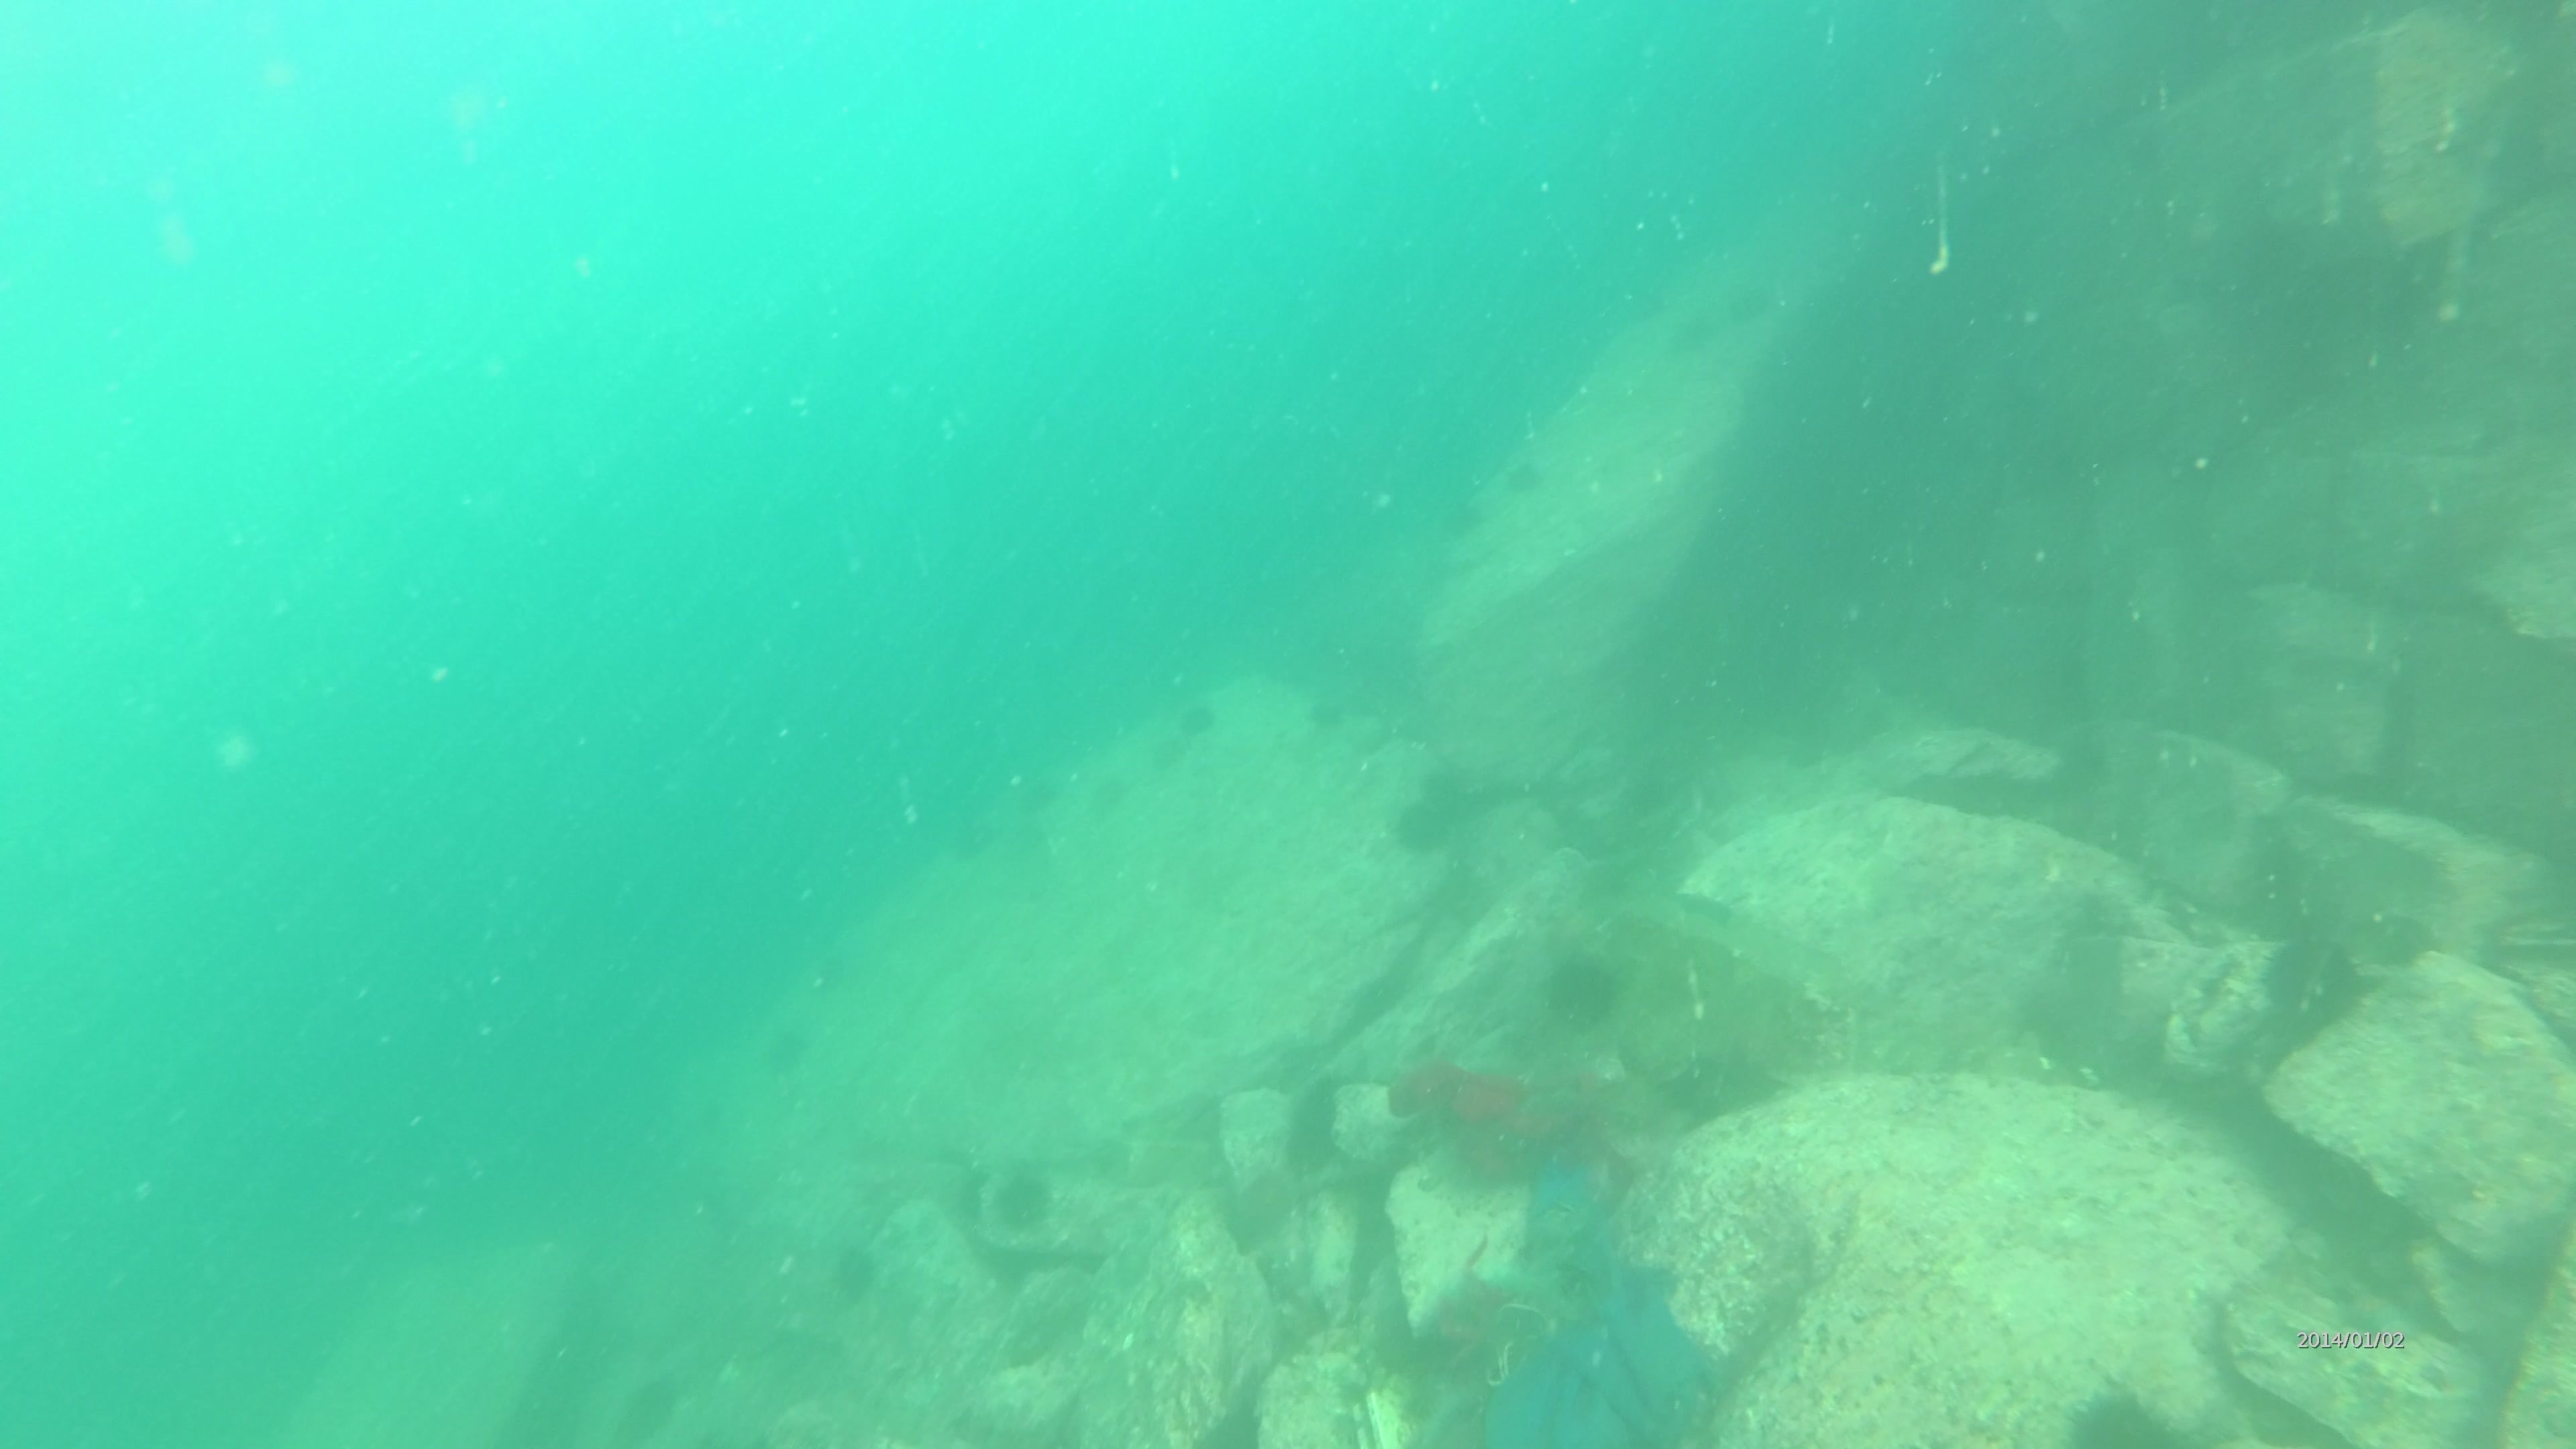echinus: (2256, 925, 2374, 1040), (1536, 943, 1631, 1035), (2059, 1376, 2180, 1449), (978, 1157, 1063, 1242), (2355, 901, 2442, 975), (821, 1235, 886, 1309), (1384, 796, 1449, 862), (759, 1026, 814, 1072), (945, 819, 1005, 860), (1440, 502, 1486, 536), (1090, 773, 1138, 805), (1021, 780, 1060, 816), (814, 955, 853, 991), (1502, 460, 1541, 492), (1008, 821, 1047, 853), (1152, 736, 1185, 771), (1180, 706, 1221, 734)
